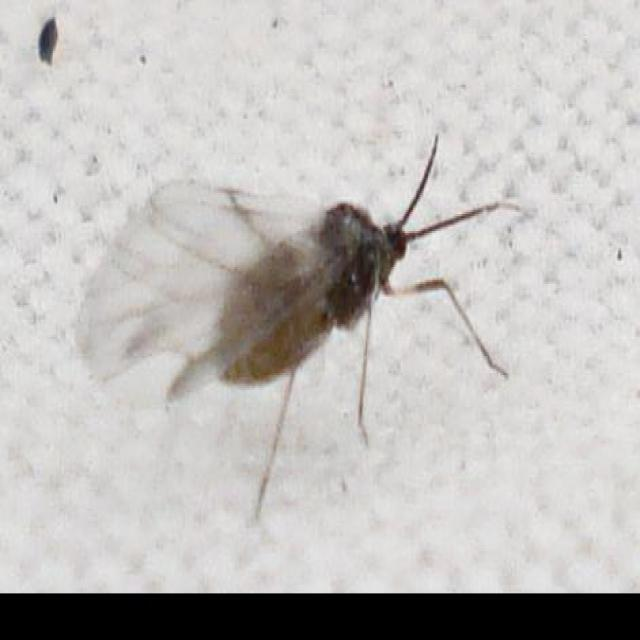Aphids: (38, 86, 547, 520)
